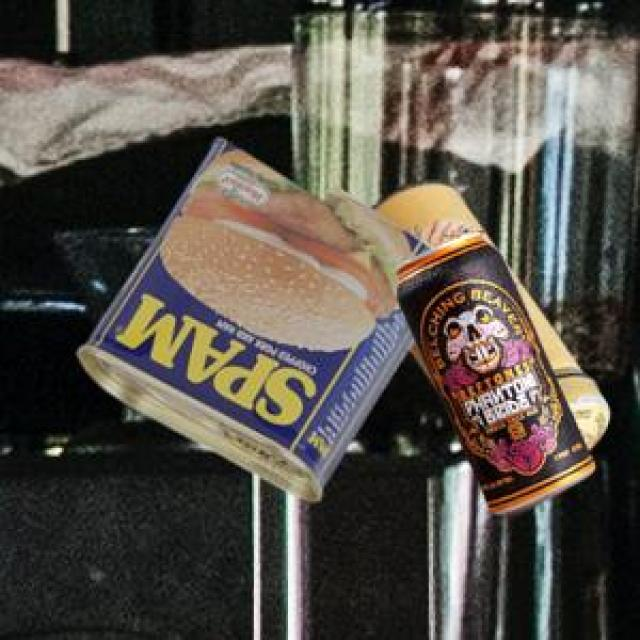logam: (74, 135, 432, 498), (368, 178, 605, 447), (394, 229, 592, 513)
